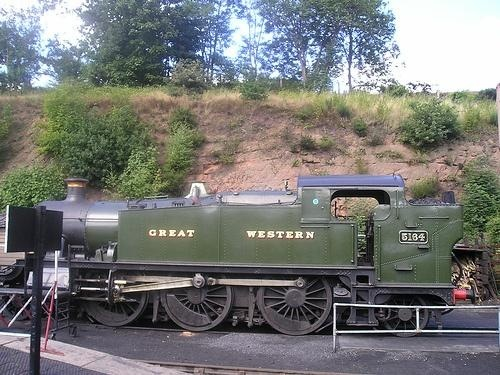train: (5, 174, 465, 338)
